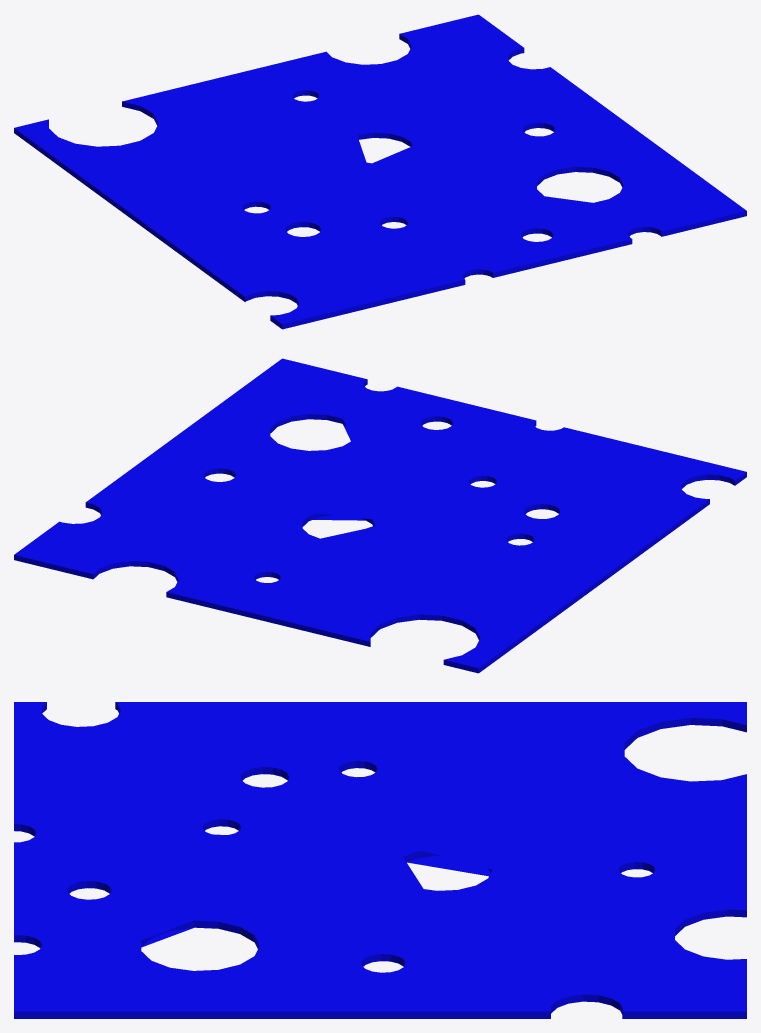
The model's file is tranche-fromage.fbx.
The picture shows the model from 3 angles, top to bottom: view 1: azimuth 30°, elevation 25°; view 2: azimuth 150°, elevation 25°; view 3: azimuth 270°, elevation 25°; orthographic projection. The views are drawn at different scales.
Visible parts, largest first — view 1: tranche-fromage; view 2: tranche-fromage; view 3: tranche-fromage.
Part boxes in pixels (box(x1,y1,x2,y2)): tranche-fromage: box(14, 14, 746, 329); tranche-fromage: box(14, 358, 746, 673); tranche-fromage: box(14, 702, 746, 1018).
Size of the model in its own units: 597 by 6.42 by 597.
